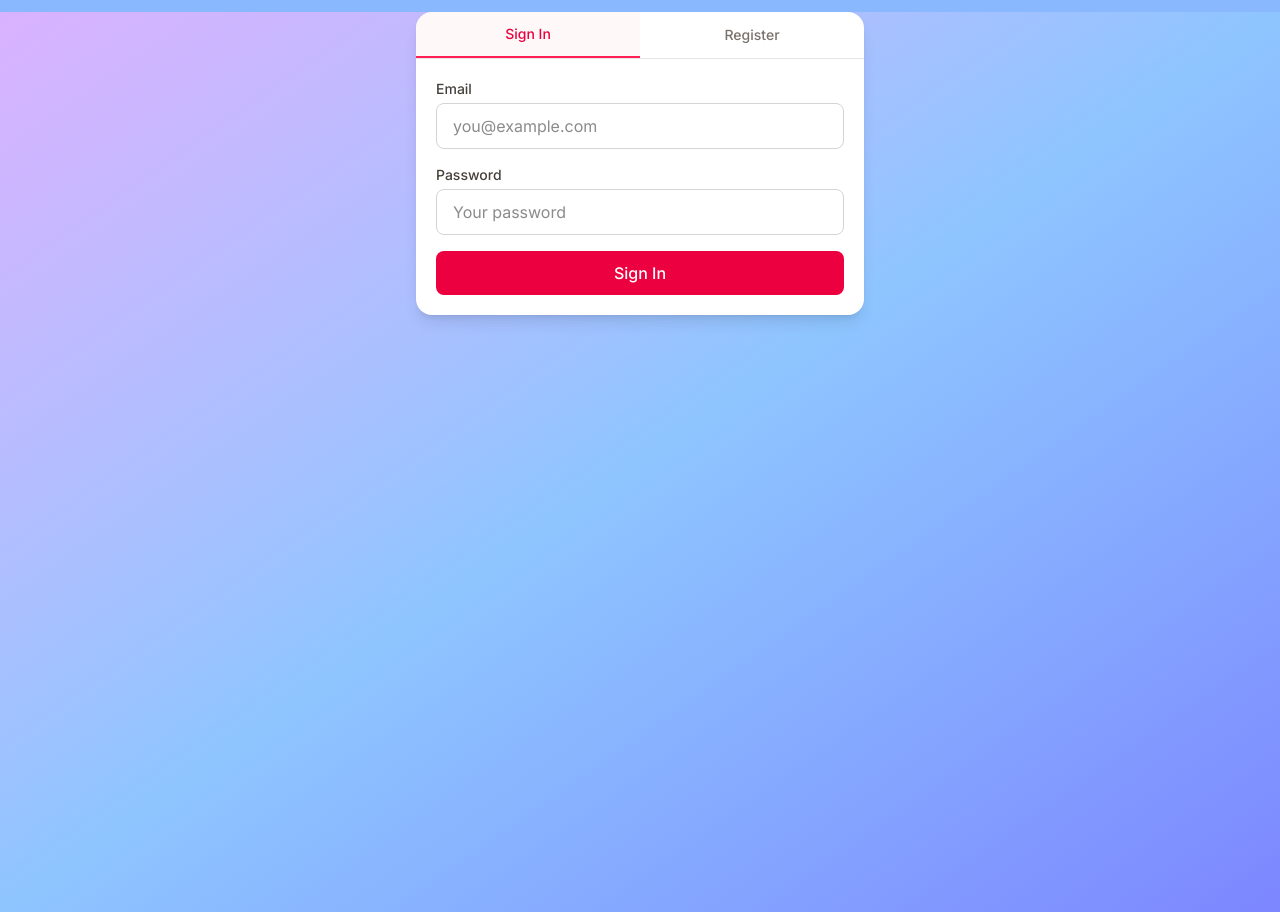
Test: AuthTabs › tab switching › switches to Register tab when clicked
This screenshot has width=1280, height=912.
Click the button "Register". click: {"x": 752, "y": 35}
box: x1=640 y1=12 x2=864 y2=58
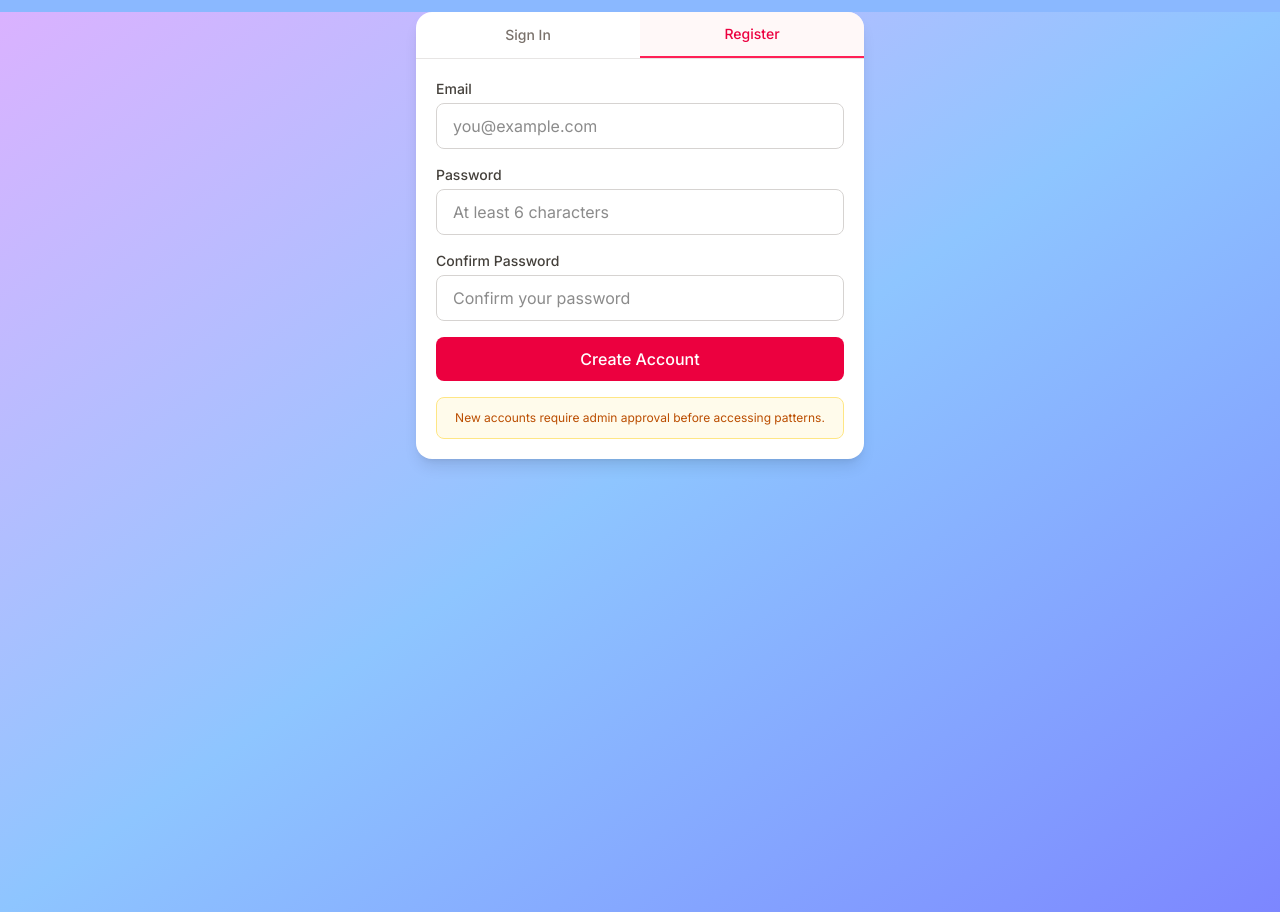
Check: the password field labelled "Confirm Password" is shown, box x1=436 y1=275 x2=844 y2=321
